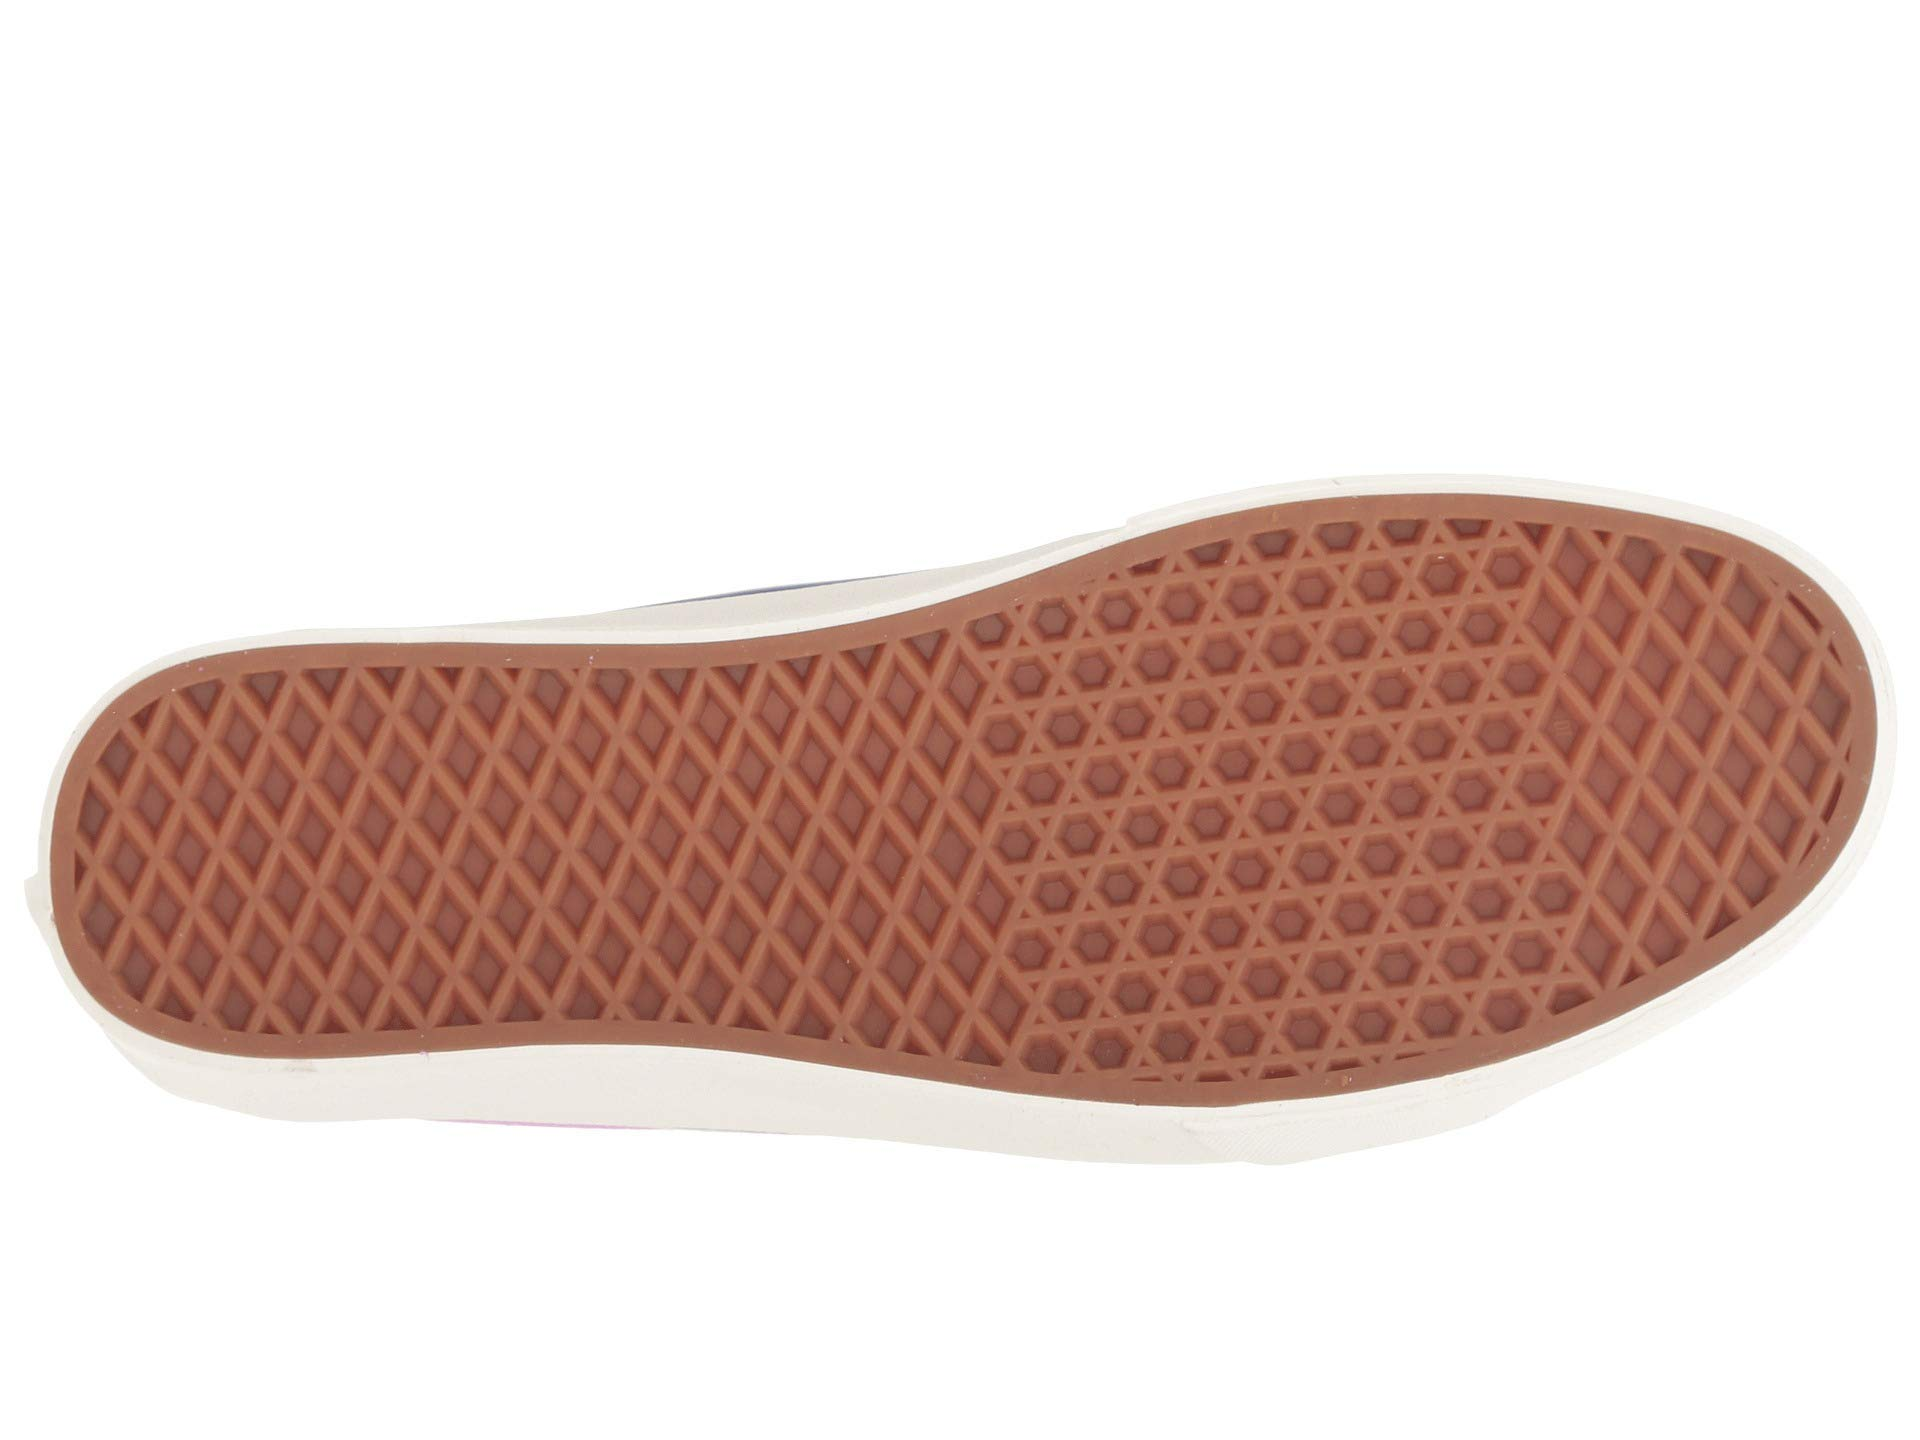polygon: (1051, 616, 1510, 1001)
quad: (181, 696, 972, 1007), (1569, 588, 1819, 898)
triangle: (1051, 616, 1510, 1001)
